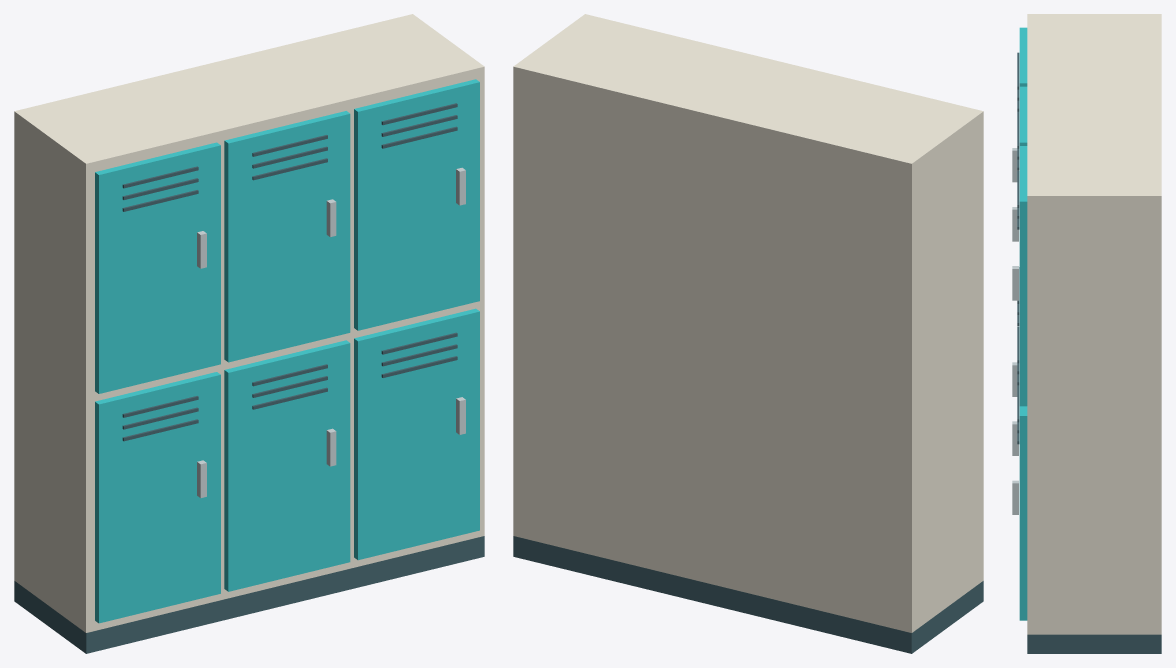
File: waterpark-and-pool-operations-waterpark-and-pool-opera-5845a626__28971.glb
The picture shows the model from 3 angles, left to right: view 1: azimuth 30°, elevation 25°; view 2: azimuth 150°, elevation 25°; view 3: azimuth 270°, elevation 25°; orthographic projection. The views are drawn at different scales.
Parts seen in each view (by area): view 1: waterpark-and-pool-operations-locker-bank; view 2: waterpark-and-pool-operations-locker-bank; view 3: waterpark-and-pool-operations-locker-bank.
Boxes of the visible parts, x1,y1,x2,y2 form: waterpark-and-pool-operations-locker-bank: (14, 14, 484, 653); waterpark-and-pool-operations-locker-bank: (513, 14, 983, 653); waterpark-and-pool-operations-locker-bank: (1012, 14, 1161, 653).
Bounding box in the file's own units: 1.6 × 1.88 × 0.5555.
